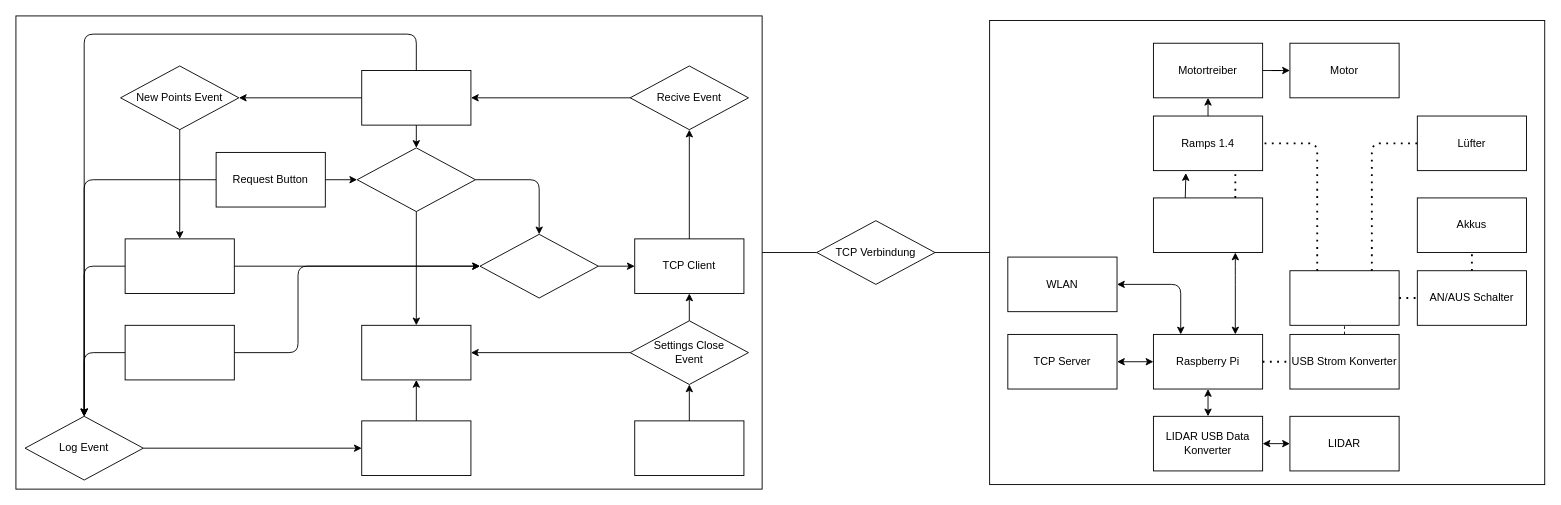
The diagram is 1561 pixels wide and 505 high, and some of its shapes have lost their labels. The shapes that lost their labels are listed below. From the top down, each one's box as (x1, y1, x2, y2) in pixels, then its label:
(361, 70, 471, 125): LIDAR Map
(356, 147, 475, 212): Get LIDAR Data Event
(1153, 197, 1263, 253): Arduino
(124, 238, 234, 293): AI
(479, 233, 598, 298): Send Event
(1289, 270, 1399, 325): Spannugswandler
(124, 324, 234, 380): Joy Stick
(361, 324, 471, 380): UI Controller
(361, 420, 471, 475): Logger
(634, 420, 744, 475): Settings Page
